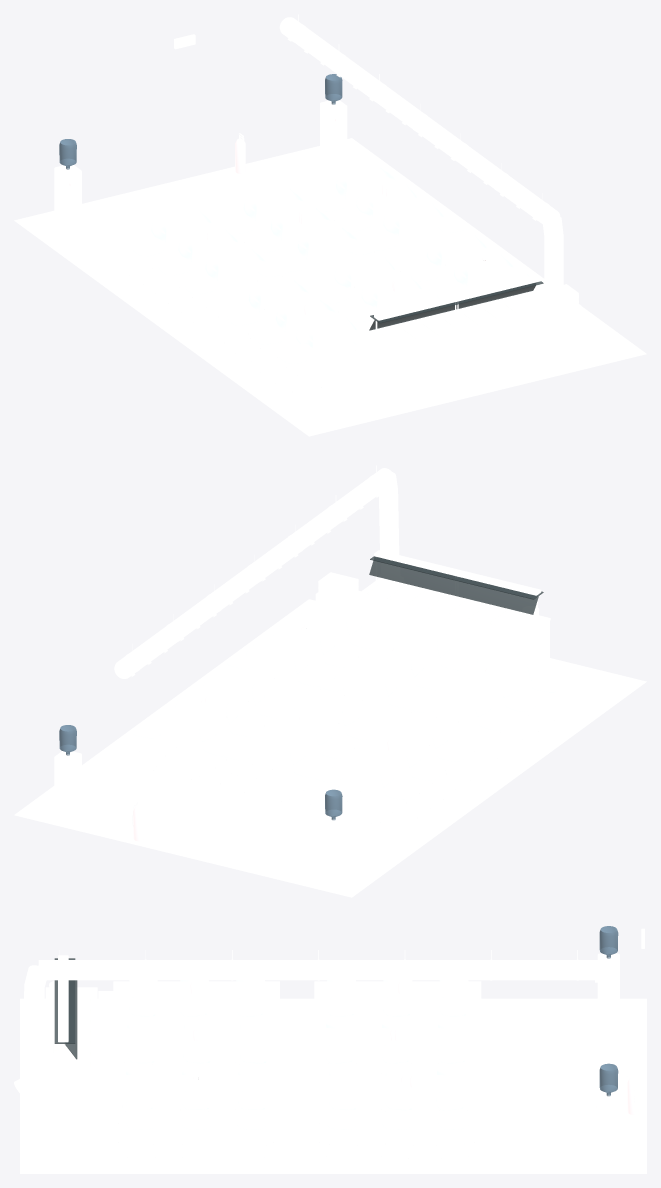
File: mts-fitout.glb
3 views of the same model, one above another, from view 1: azimuth 30°, elevation 25°; view 2: azimuth 150°, elevation 25°; view 3: azimuth 270°, elevation 25° (orthographic). The views are drawn at different scales.
Parts seen in each view (by area): view 1: MTS_fitout; view 2: MTS_fitout; view 3: MTS_fitout.
Part boxes in pixels (x1,y1,x2,y2): MTS_fitout: (14, 14, 646, 436); MTS_fitout: (14, 465, 646, 897); MTS_fitout: (14, 926, 646, 1173).
Bounding box in the file's own units: 5.98 × 2.85 × 9.13.
